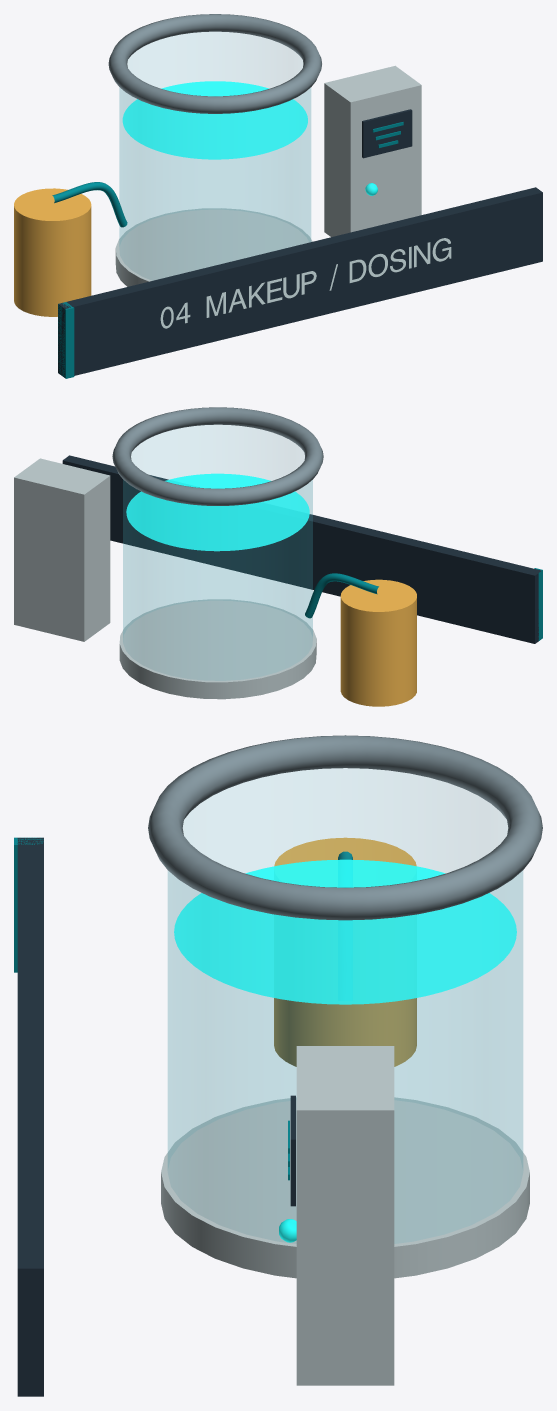
The model's file is cooling-makeup.9555b054154b.glb.
The picture shows the model from 3 angles, top to bottom: view 1: azimuth 30°, elevation 25°; view 2: azimuth 150°, elevation 25°; view 3: azimuth 270°, elevation 25°; orthographic projection. The views are drawn at different scales.
Parts seen in each view (by area): view 1: structure_cutaway_window_00016, structure_dark_00020, structure_cream_00017, makeup_surface_00004, structure_yellow_00019, structure_steel_00018, structure_white_00023, structure_teal_00021; view 2: structure_cutaway_window_00016, structure_cream_00017, structure_dark_00020, structure_yellow_00019, makeup_surface_00004, structure_steel_00018, structure_teal_00021; view 3: structure_cutaway_window_00016, structure_cream_00017, makeup_surface_00004, structure_steel_00018, structure_dark_00020, structure_yellow_00019, structure_teal_00021.
Boxes of the visible parts, bbox=[...] form: structure_cutaway_window_00016: bbox=[119, 32, 310, 279]; structure_dark_00020: bbox=[58, 109, 542, 377]; structure_cream_00017: bbox=[115, 65, 421, 286]; makeup_surface_00004: bbox=[122, 81, 307, 159]; structure_yellow_00019: bbox=[14, 188, 91, 316]; structure_steel_00018: bbox=[108, 14, 321, 113]; structure_white_00023: bbox=[160, 238, 451, 328]; structure_teal_00021: bbox=[52, 122, 403, 378]; structure_cutaway_window_00016: bbox=[123, 425, 312, 680]; structure_cream_00017: bbox=[14, 458, 316, 699]; structure_dark_00020: bbox=[62, 455, 541, 643]; structure_yellow_00019: bbox=[340, 579, 416, 706]; makeup_surface_00004: bbox=[126, 473, 309, 551]; structure_steel_00018: bbox=[112, 407, 323, 505]; structure_teal_00021: bbox=[305, 568, 542, 640]; structure_cutaway_window_00016: bbox=[168, 768, 522, 1243]; structure_cream_00017: bbox=[161, 1046, 529, 1385]; makeup_surface_00004: bbox=[174, 859, 516, 1004]; structure_steel_00018: bbox=[148, 735, 542, 920]; structure_dark_00020: bbox=[17, 837, 295, 1396]; structure_yellow_00019: bbox=[274, 837, 416, 1066]; structure_teal_00021: bbox=[14, 837, 352, 1180].
Bounding box in the file's own units: 4.7 × 2.03 × 2.44.
